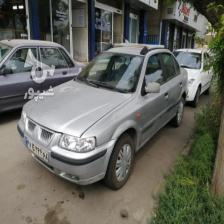plate: (25, 136, 49, 163)
